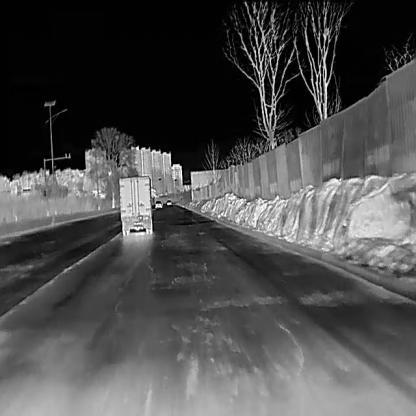car: (118, 174, 154, 236), (154, 199, 163, 208), (165, 197, 171, 205)
